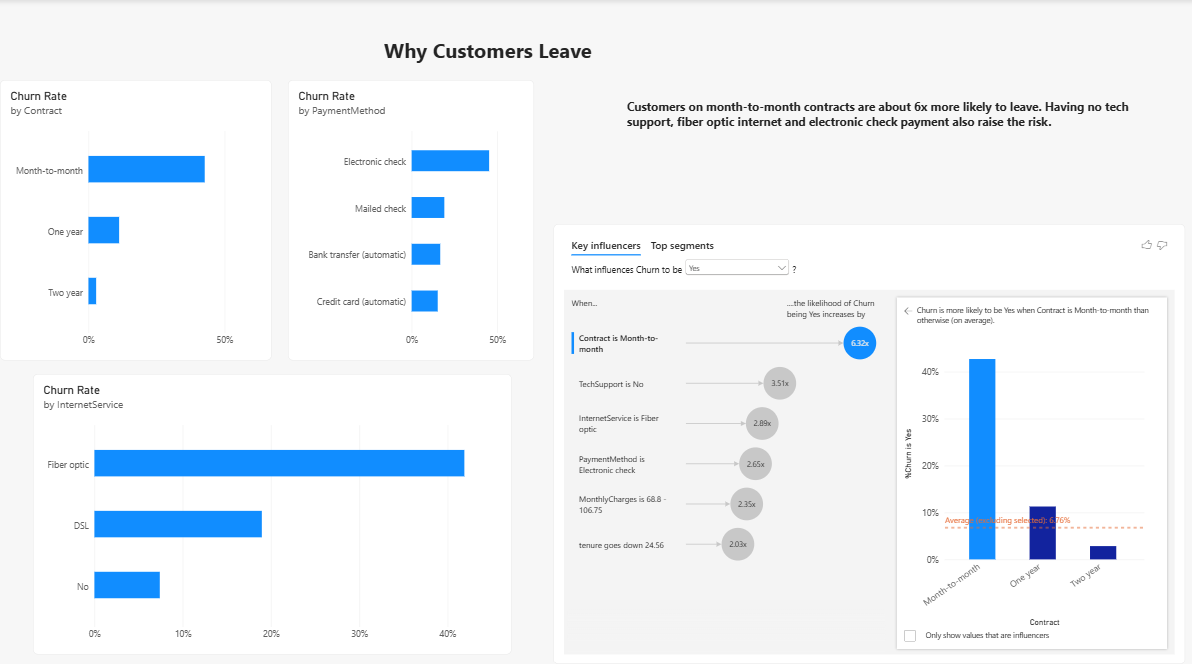

The dashboard page shown, as its layout file describes it:
{"tool":"powerbi","page":{"name":"Why Customers Leave","canvas":[1920,1080],"ordinal":1},"visuals":[{"type":"clusteredBarChart","fields":{"Category":["Customers.Contract"],"Y":["Customers.Churn Rate"]},"box":[0,128.8,431.9,446.2],"z":0},{"type":"clusteredBarChart","fields":{"Category":["Customers.PaymentMethod"],"Y":["Customers.Churn Rate"]},"box":[458.1,128.8,391.3,446.2],"z":1},{"type":"clusteredBarChart","fields":{"Category":["Customers.InternetService"],"Y":["Customers.Churn Rate"]},"box":[52.5,596.5,761.1,446.2],"z":2},{"type":"textbox","box":[610.8,40.6,403.2,133.6],"z":3},{"type":"textbox","box":[997.3,157.5,816,178.9],"z":4},{"type":"keyDriversVisual","fields":{"ExplainBy":["Customers.Contract","Customers.tenure","Customers.InternetService","Customers.PaymentMethod","Customers.TechSupport","Customers.MonthlyCharges"],"Target":["Customers.Churn"]},"box":[880.4,357.9,1004.5,701.5],"z":5}]}

Visuals, with their boxes in screenshot pixels (x1, y1, x2, y2), scaled from the page's 1920x1080 canvas onto the 1192x664 screenshot:
clusteredBarChart - Customers.Contract x Customers.Churn Rate: x1=0 y1=79 x2=268 y2=354
clusteredBarChart - Customers.PaymentMethod x Customers.Churn Rate: x1=284 y1=79 x2=527 y2=354
clusteredBarChart - Customers.InternetService x Customers.Churn Rate: x1=33 y1=367 x2=505 y2=641
textbox: x1=379 y1=25 x2=630 y2=107
textbox: x1=619 y1=97 x2=1126 y2=207
keyDriversVisual - Customers.Contract x Customers.tenure: x1=547 y1=220 x2=1170 y2=651
